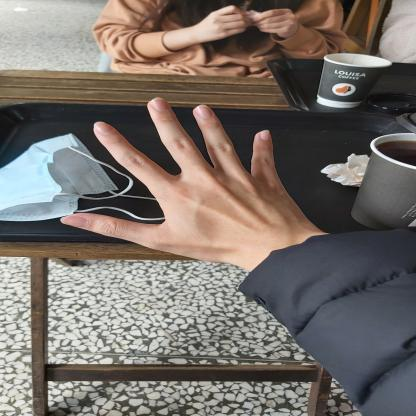bare_hand: (56, 89, 318, 269)
